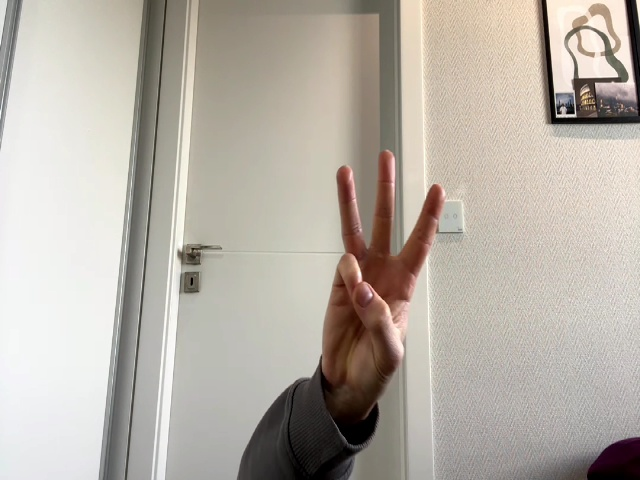W: (321, 150, 444, 398)
